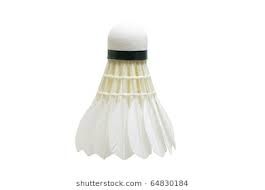shuttle: (74, 30, 182, 165)
